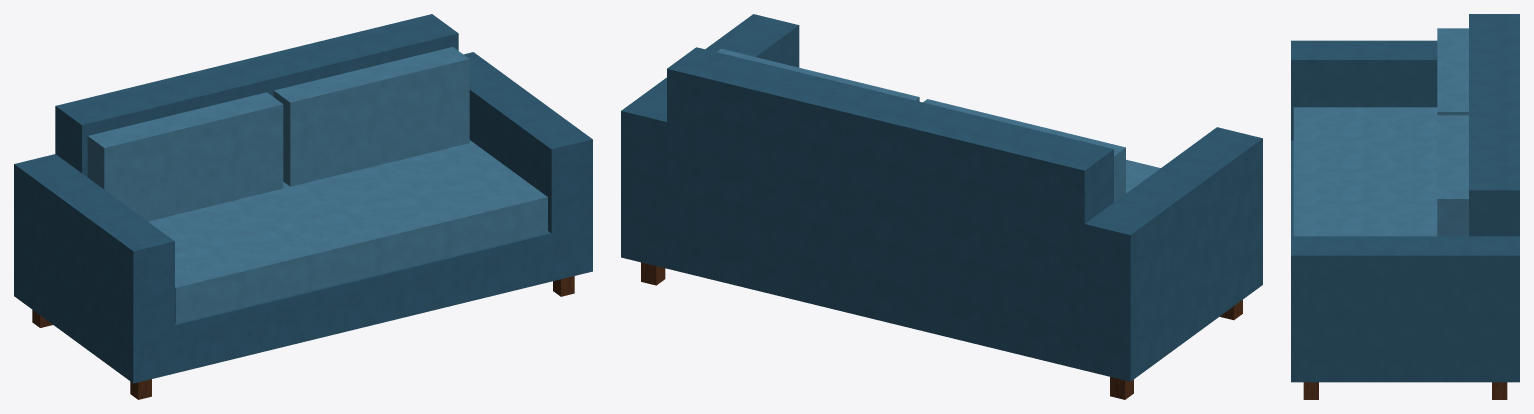
The picture shows the model from 3 angles, left to right: view 1: azimuth 30°, elevation 25°; view 2: azimuth 150°, elevation 25°; view 3: azimuth 270°, elevation 25°; orthographic projection. The views are drawn at different scales.
Visible parts, largest first — view 1: Sofa_Game; view 2: Sofa_Game; view 3: Sofa_Game.
Part boxes in pixels (bbox=[...]): Sofa_Game: bbox=[14, 14, 592, 399]; Sofa_Game: bbox=[621, 14, 1262, 399]; Sofa_Game: bbox=[1291, 14, 1519, 399].
Size of the model in its own units: 2 by 0.85 by 0.9.
3 materials, 3 textured.
